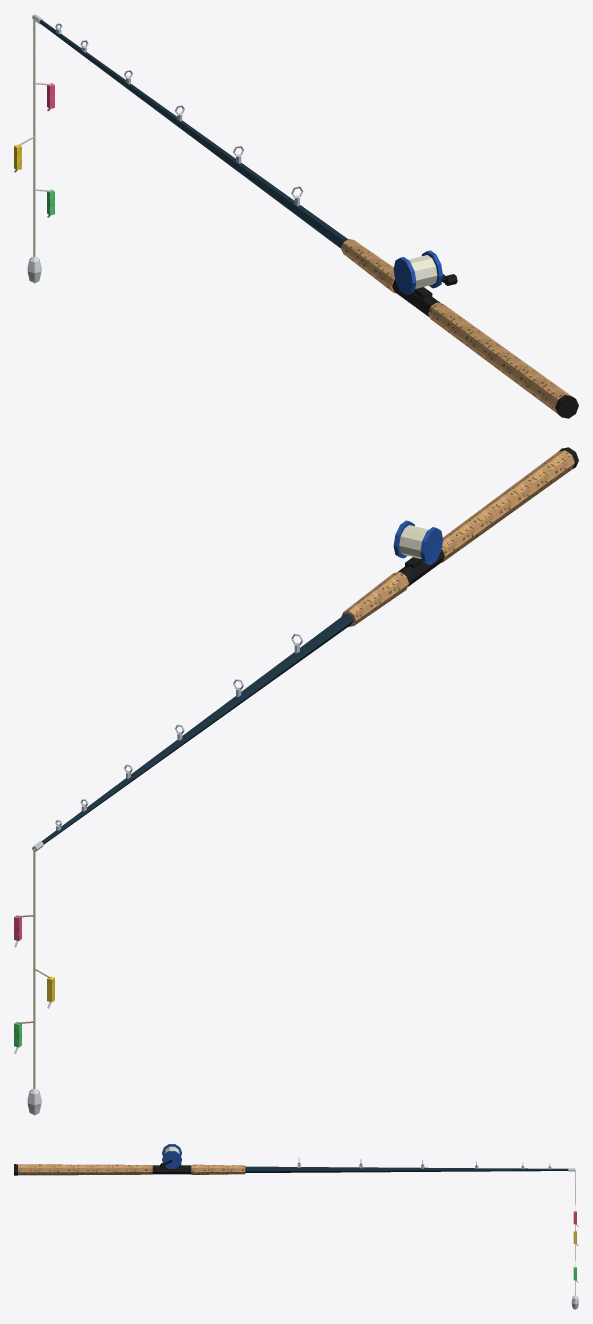
File: jig.glb
The picture shows the model from 3 angles, top to bottom: view 1: azimuth 30°, elevation 25°; view 2: azimuth 150°, elevation 25°; view 3: azimuth 270°, elevation 25°; orthographic projection. The views are drawn at different scales.
Parts seen in each view (by area): view 1: butt, blank, rig; view 2: butt, blank, rig; view 3: butt, blank, rig.
Boxes of the visible parts, x1,y1,x2,y2 form: butt: (341,239,578,418); blank: (32,14,347,248); rig: (14,20,54,283); butt: (341,447,578,626); blank: (32,613,353,851); rig: (14,849,54,1115); butt: (14,1144,245,1175); blank: (245,1157,575,1172); rig: (571,1170,578,1309).
Size of the model in its own units: 0.074 by 0.4636 by 1.47.
10 materials, 10 textured.
